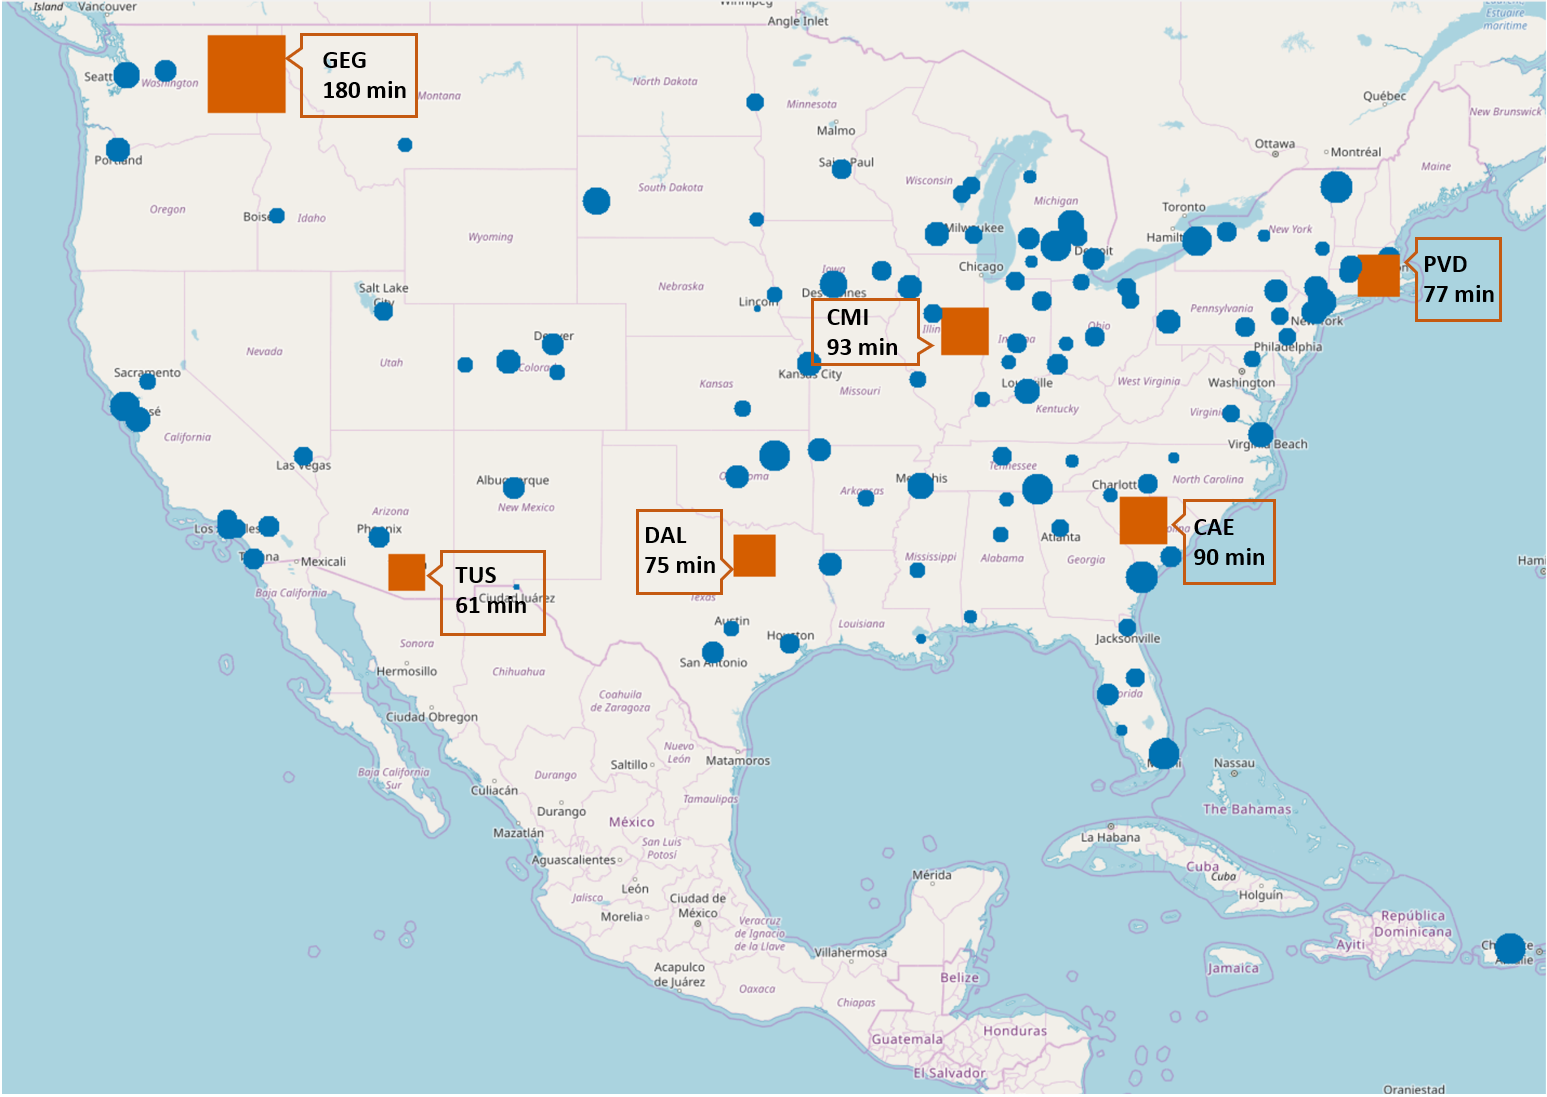

Layout of this report page (visuals, bound fields, positions):
{"tool":"tableau","page":{"name":"Dashboard 1","canvas":[1000,800],"ordinal":0},"visuals":[{"type":"worksheet","title":"Sheet 1","mark":"Automatic","box":[8,8,984,784]}]}

Visuals, with their boxes on the page's 1000x800 design canvas (x1, y1, x2, y2). These are canvas units, not pixel positions in the 1547x1097 screenshot, which may show the page scaled, cropped or inside an application window:
"Sheet 1" worksheet: left=8, top=8, right=992, bottom=792
